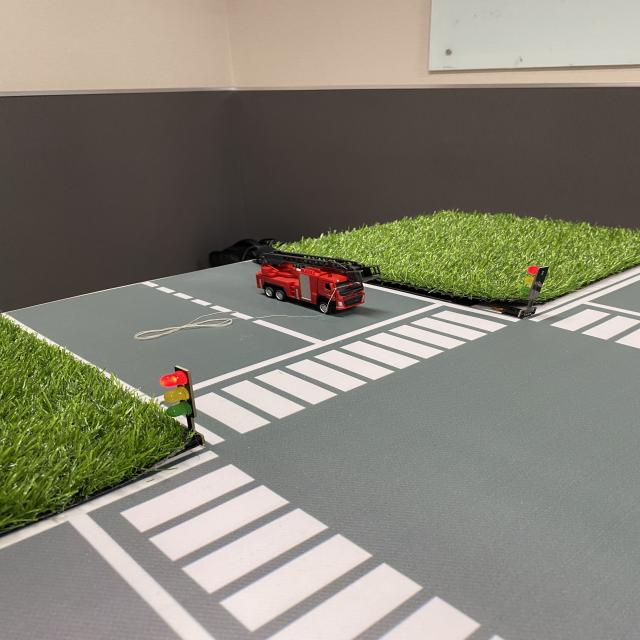Fire Truck: (252, 246, 385, 318)
